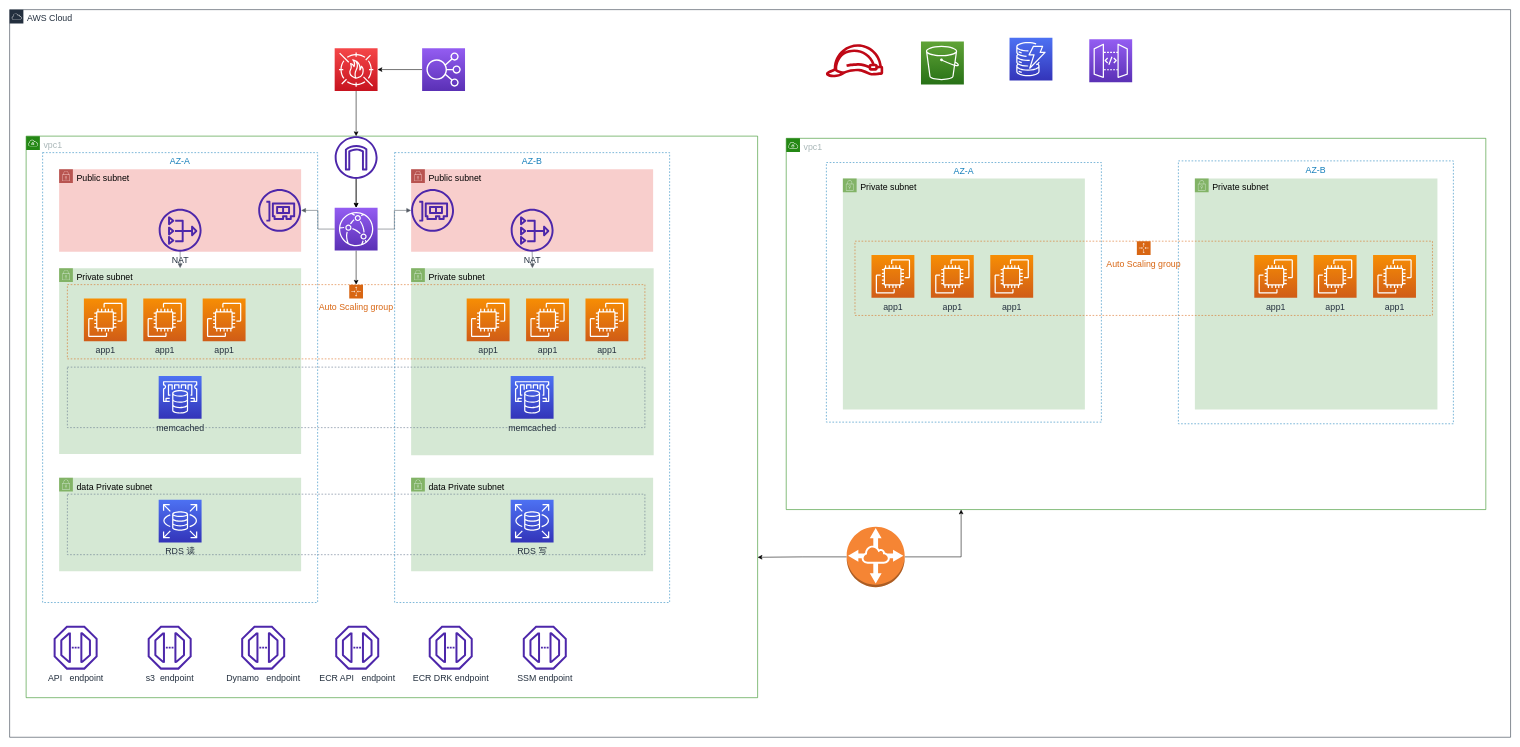
Image size: 1520x747. Some labels were removed from this diagram. The box of each missing label's shape, as (x1, y1, x2, y2) in pixels:
ALB: (334, 207, 378, 251)
API: (1089, 39, 1132, 82)
Cache group: (67, 367, 645, 428)
CDN: (422, 48, 465, 91)
Data group: (67, 494, 645, 555)
Dynamo: (1009, 37, 1052, 81)
IGW: (334, 136, 377, 179)
role: (825, 44, 884, 77)
S3: (920, 41, 964, 84)
VPC Peering: (846, 526, 905, 587)
WAF: (334, 48, 378, 91)
